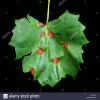grape leaf black rot: (8, 8, 90, 88)
